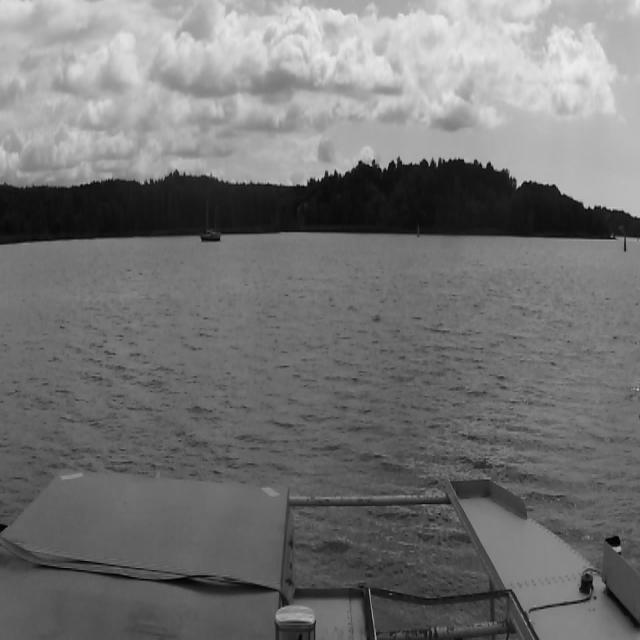buoy: (624, 231, 626, 251)
ship: (198, 181, 220, 239)
